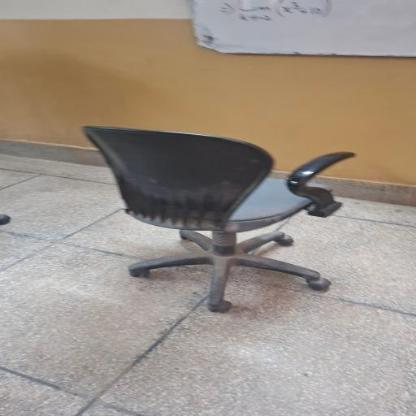chair: (77, 111, 361, 321)
